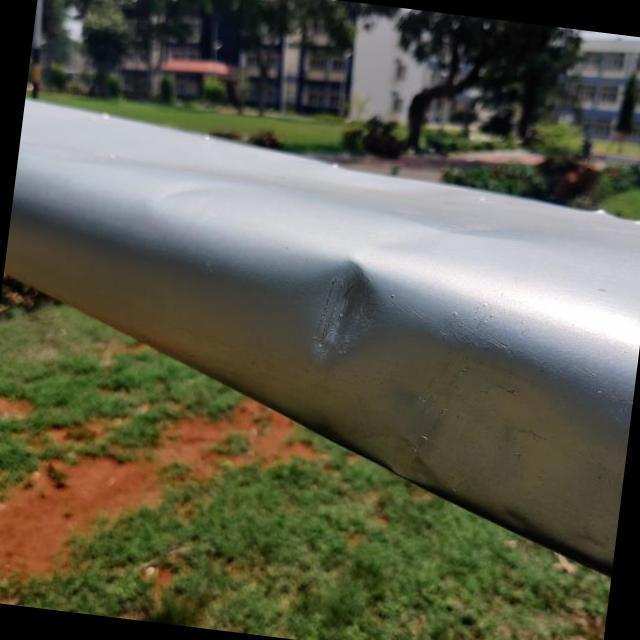Dent: (270, 241, 408, 402)
